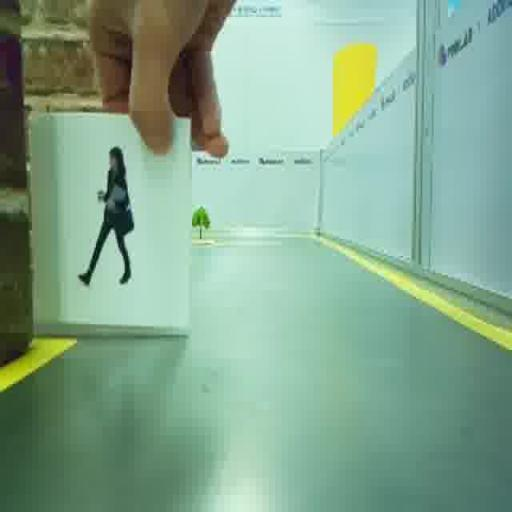human: (78, 146, 134, 285)
